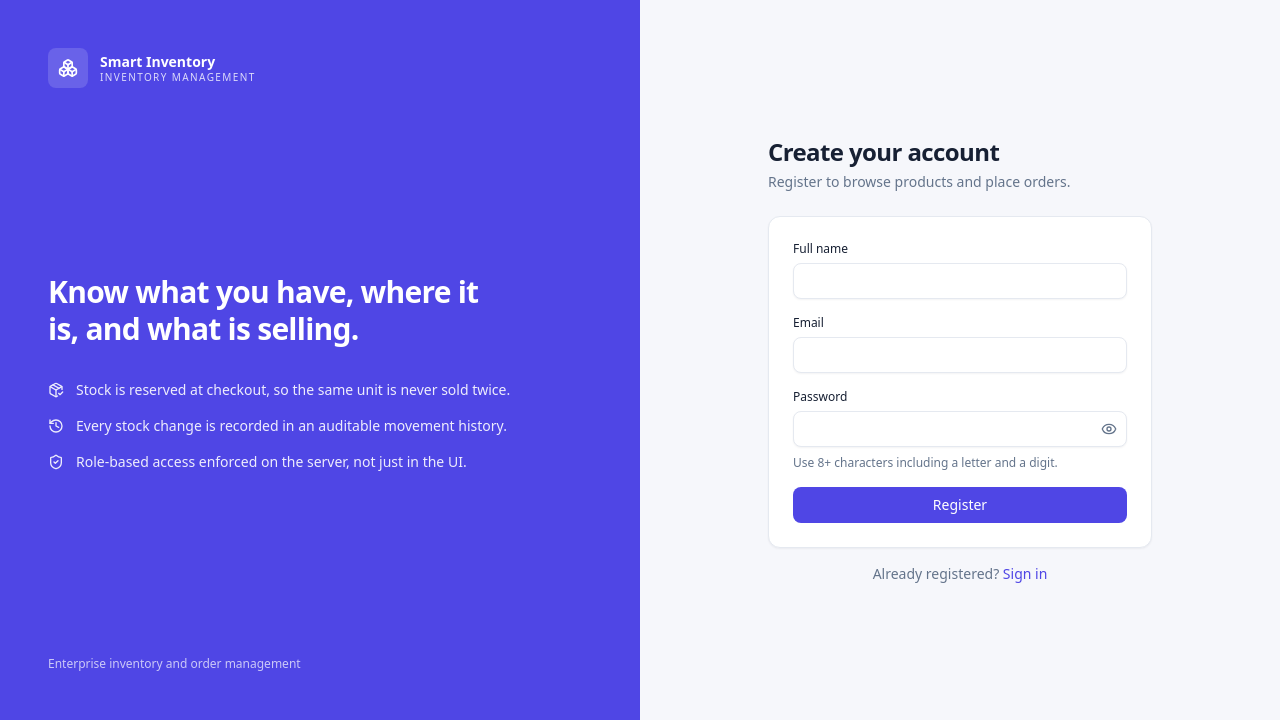
Test case: RegisterPage › rejects a weak password
Type "Ana" into the field labelled "Full name" at (960, 281), box [793, 263, 1127, 299]
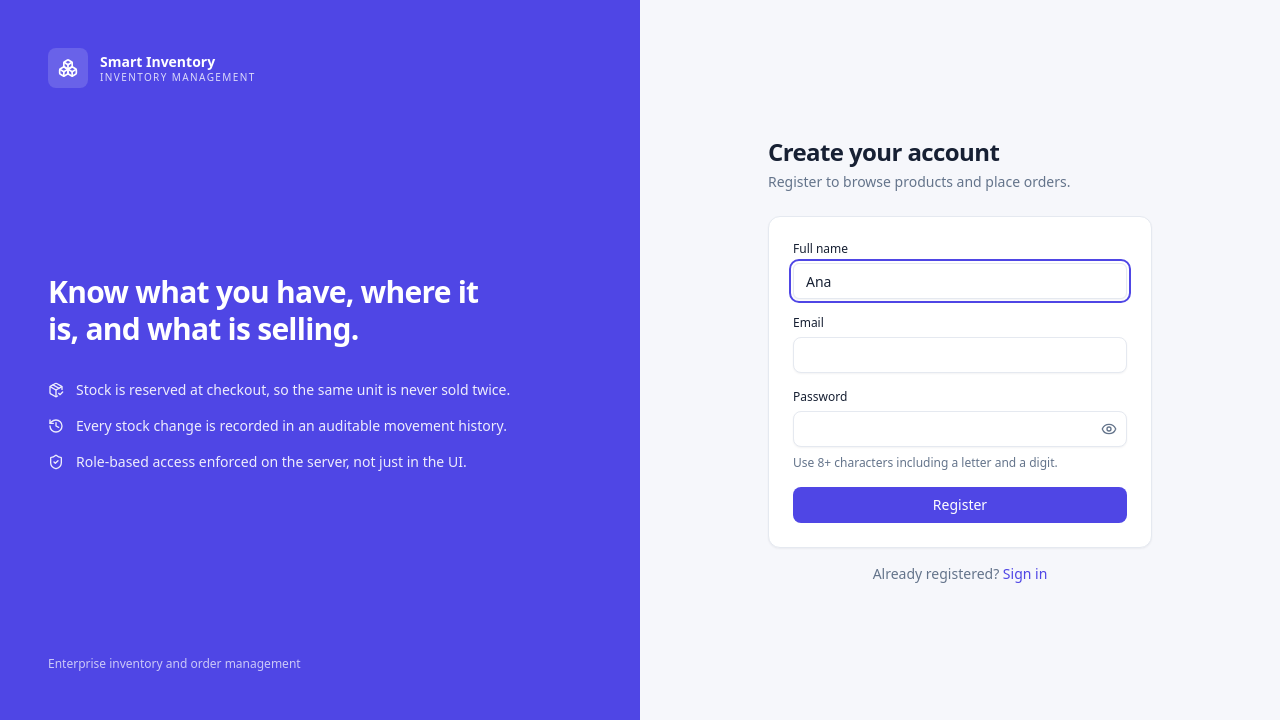
Type "ana@example.com" into the field labelled "Email" at (960, 355), box [793, 337, 1127, 373]
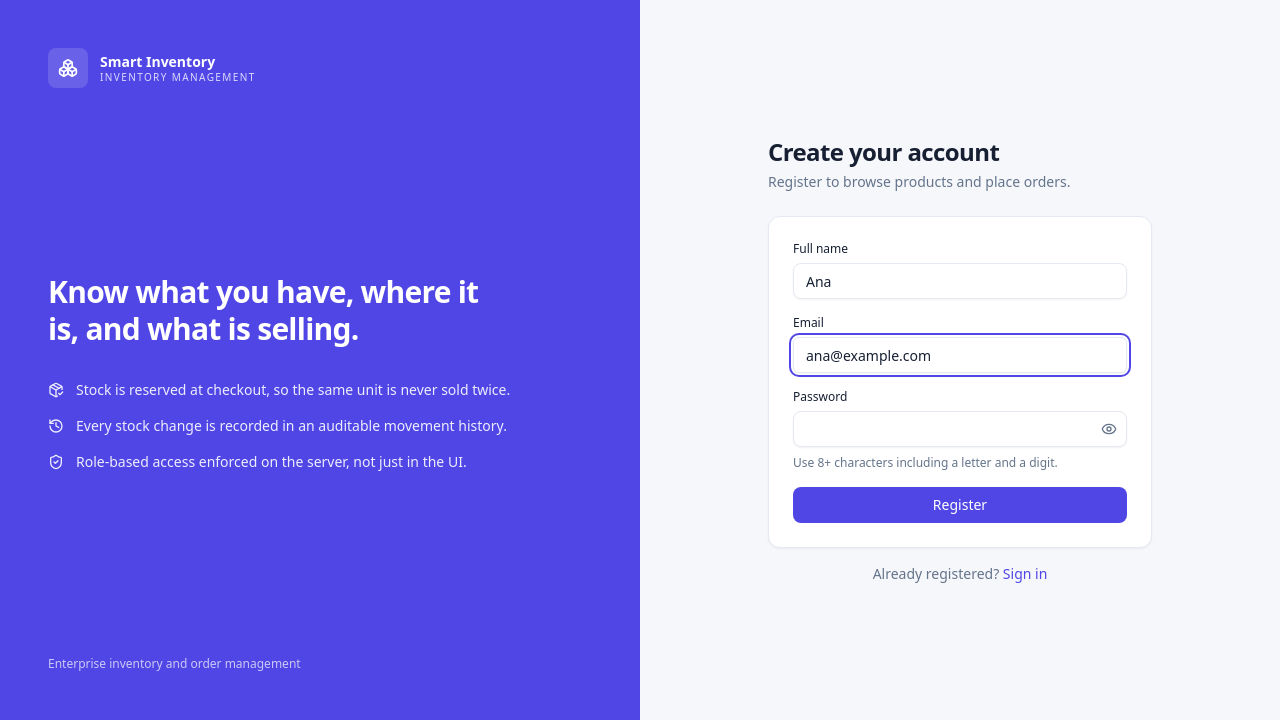
Type "short" into the password field labelled "Password" at (960, 429), box [793, 411, 1127, 447]
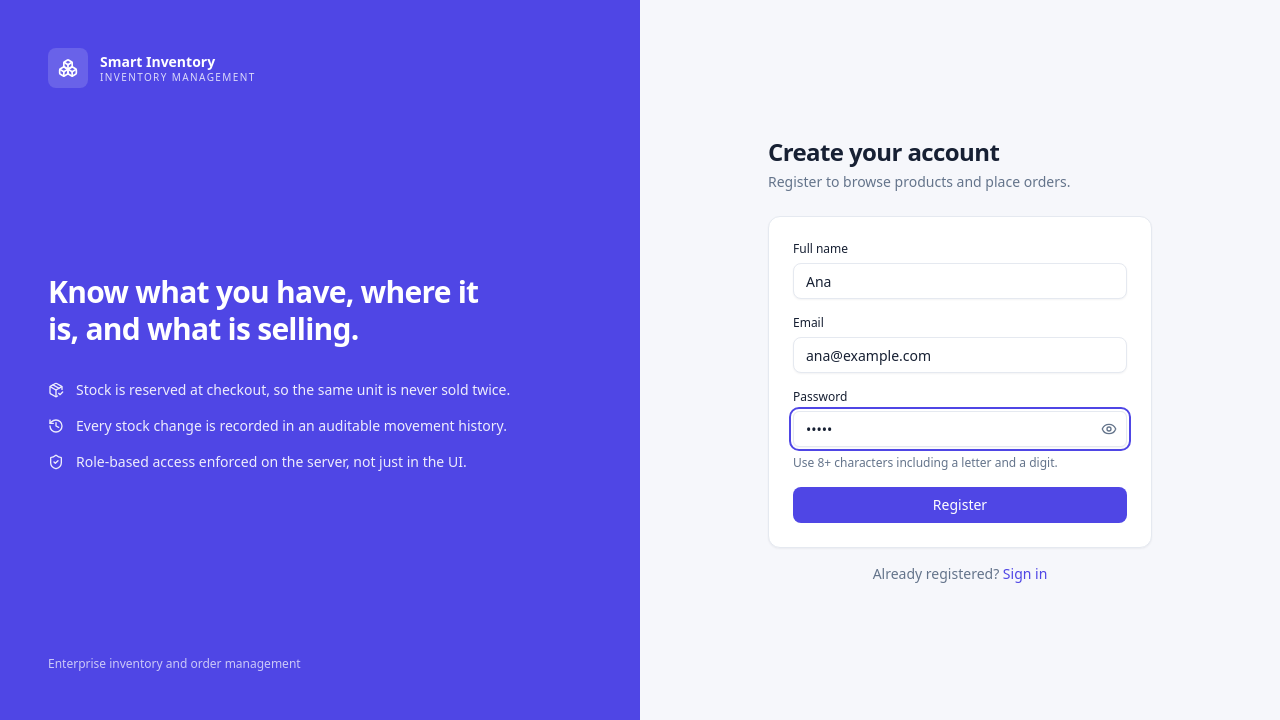
Click the button "Register" at (960, 505), box [793, 487, 1127, 523]
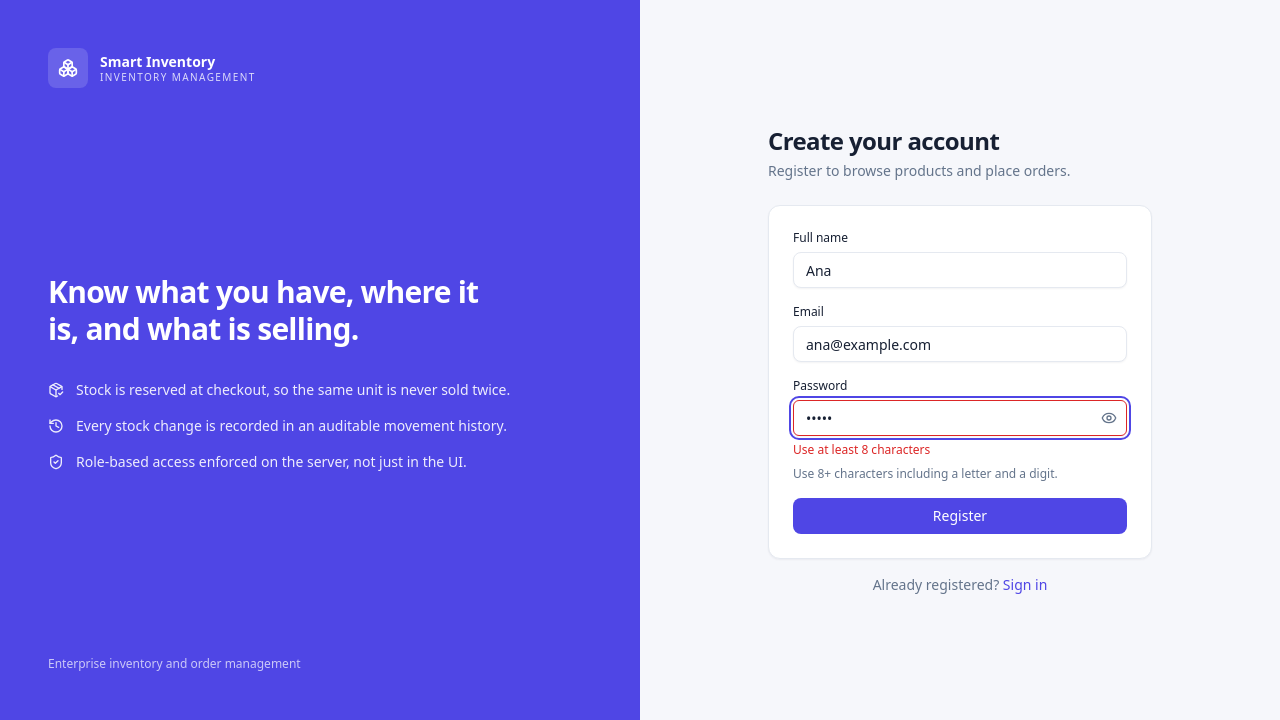
Now the text "Use at least 8 characters" is shown, box [793, 441, 930, 458]
